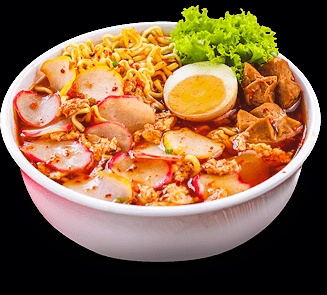seblak: (13, 62, 309, 206)
